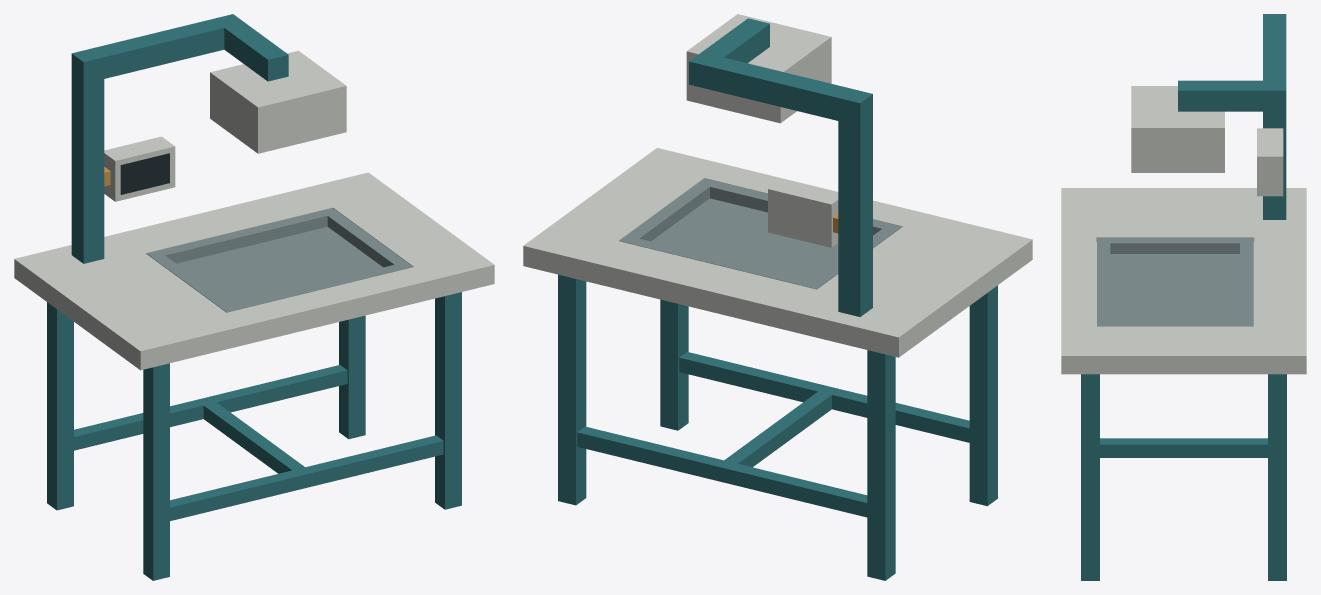
The picture shows the model from 3 angles, left to right: view 1: azimuth 30°, elevation 25°; view 2: azimuth 150°, elevation 25°; view 3: azimuth 270°, elevation 25°; orthographic projection. The views are drawn at different scales.
Visible parts, largest first — view 1: WholeSteppedApertureWorktop, WholeInsetFlangedShallowTray, DownwardBlindHeadShell, OffsetRearColumn, WholeLCantilever, LowLongBrace_1, WholeFlatFootLeg_1_1, WholeFlatFootLeg_2_1, WholeFlatFootLeg_1_2, LowLongBrace_2, FixedSideDisplayBody, WholeFlatFootLeg_2_2 (+1 smaller); view 2: WholeSteppedApertureWorktop, WholeInsetFlangedShallowTray, OffsetRearColumn, WholeLCantilever, LowLongBrace_2, WholeFlatFootLeg_1_2, WholeFlatFootLeg_2_2, WholeFlatFootLeg_1_1, DownwardBlindHeadShell, LowLongBrace_1, FixedSideDisplayBody, WholeFlatFootLeg_2_1 (+1 smaller); view 3: WholeSteppedApertureWorktop, WholeInsetFlangedShallowTray, DownwardBlindHeadShell, WholeLCantilever, WholeFlatFootLeg_2_1, WholeFlatFootLeg_2_2, LowCentralHBrace, FixedSideDisplayBody, OffsetRearColumn.
Boxes of the visible parts, x1,y1,x2,y2 form: WholeSteppedApertureWorktop: (14, 172, 494, 370); WholeInsetFlangedShallowTray: (146, 208, 412, 312); DownwardBlindHeadShell: (210, 50, 346, 153); OffsetRearColumn: (71, 48, 104, 263); WholeLCantilever: (93, 14, 288, 81); LowLongBrace_1: (170, 435, 443, 520); WholeFlatFootLeg_1_1: (143, 363, 169, 580); WholeFlatFootLeg_2_1: (435, 292, 461, 509); WholeFlatFootLeg_1_2: (47, 302, 73, 510); LowLongBrace_2: (74, 365, 347, 450); FixedSideDisplayBody: (104, 136, 175, 201); WholeFlatFootLeg_2_2: (339, 315, 365, 439); WholeSteppedApertureWorktop: (523, 148, 1032, 357); WholeInsetFlangedShallowTray: (619, 178, 901, 289); OffsetRearColumn: (838, 88, 872, 316); WholeLCantilever: (689, 18, 850, 120); LowLongBrace_2: (577, 426, 867, 517); WholeFlatFootLeg_1_2: (867, 350, 895, 580); WholeFlatFootLeg_2_2: (558, 274, 586, 505); WholeFlatFootLeg_1_1: (969, 285, 997, 506); DownwardBlindHeadShell: (686, 14, 831, 123); LowLongBrace_1: (679, 352, 969, 442); FixedSideDisplayBody: (768, 178, 838, 247); WholeFlatFootLeg_2_1: (660, 299, 688, 430); WholeSteppedApertureWorktop: (1061, 188, 1306, 374); WholeInsetFlangedShallowTray: (1097, 237, 1253, 326); DownwardBlindHeadShell: (1131, 86, 1224, 172); WholeLCantilever: (1178, 24, 1286, 111); WholeFlatFootLeg_2_1: (1081, 374, 1099, 580); WholeFlatFootLeg_2_2: (1268, 374, 1286, 580); LowCentralHBrace: (1100, 438, 1267, 457); FixedSideDisplayBody: (1257, 128, 1283, 196); OffsetRearColumn: (1263, 14, 1286, 219).
Bounding box in the file's own units: 1.36 × 1.63 × 0.84.
